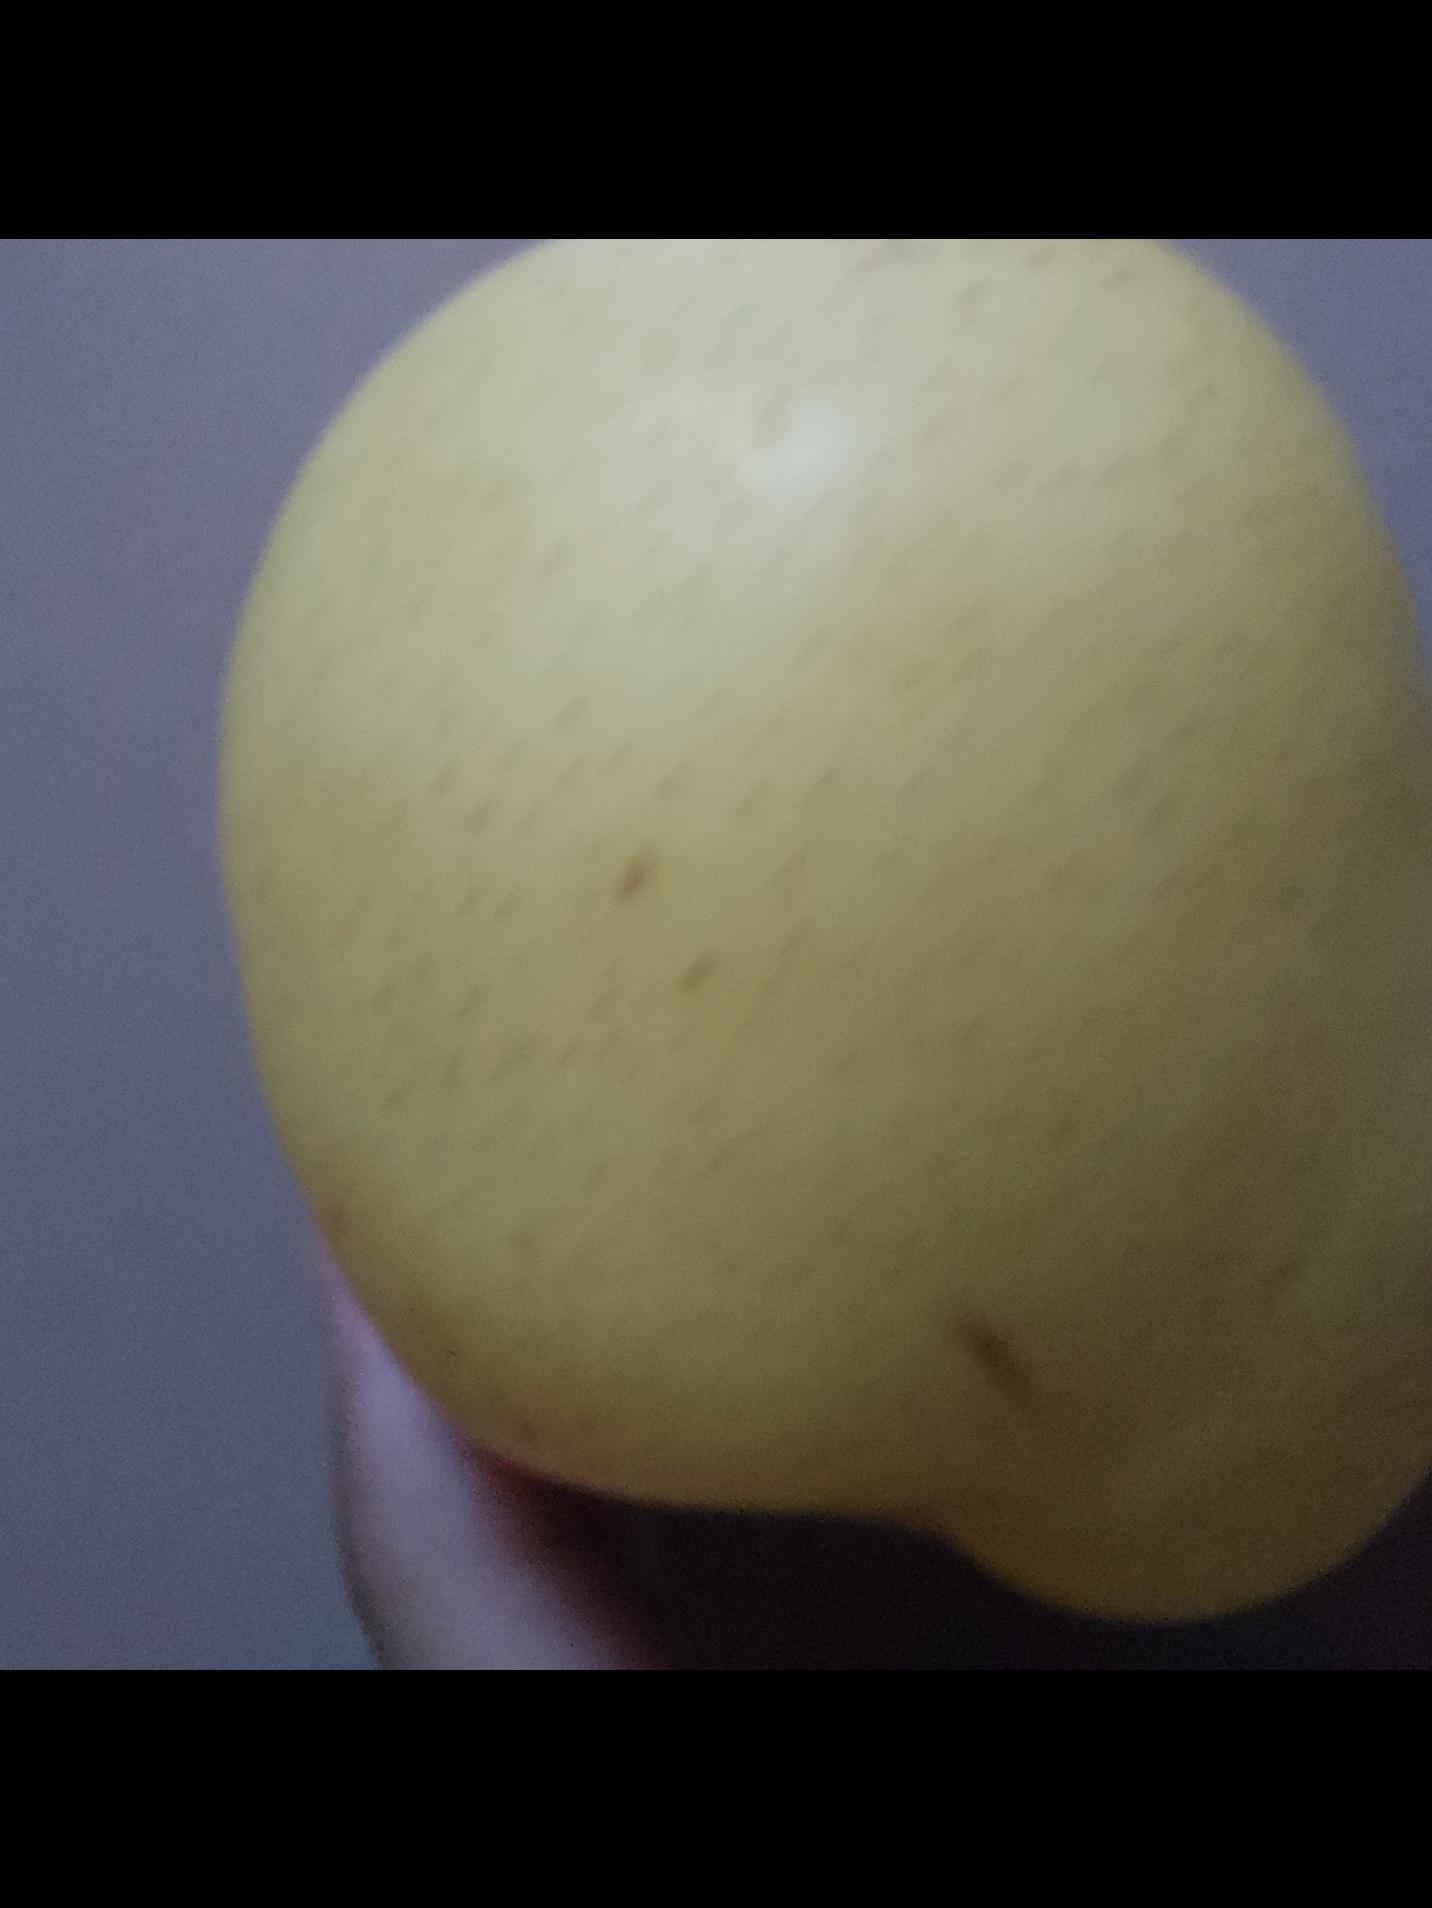Good Pear: (211, 238, 1432, 1610)
